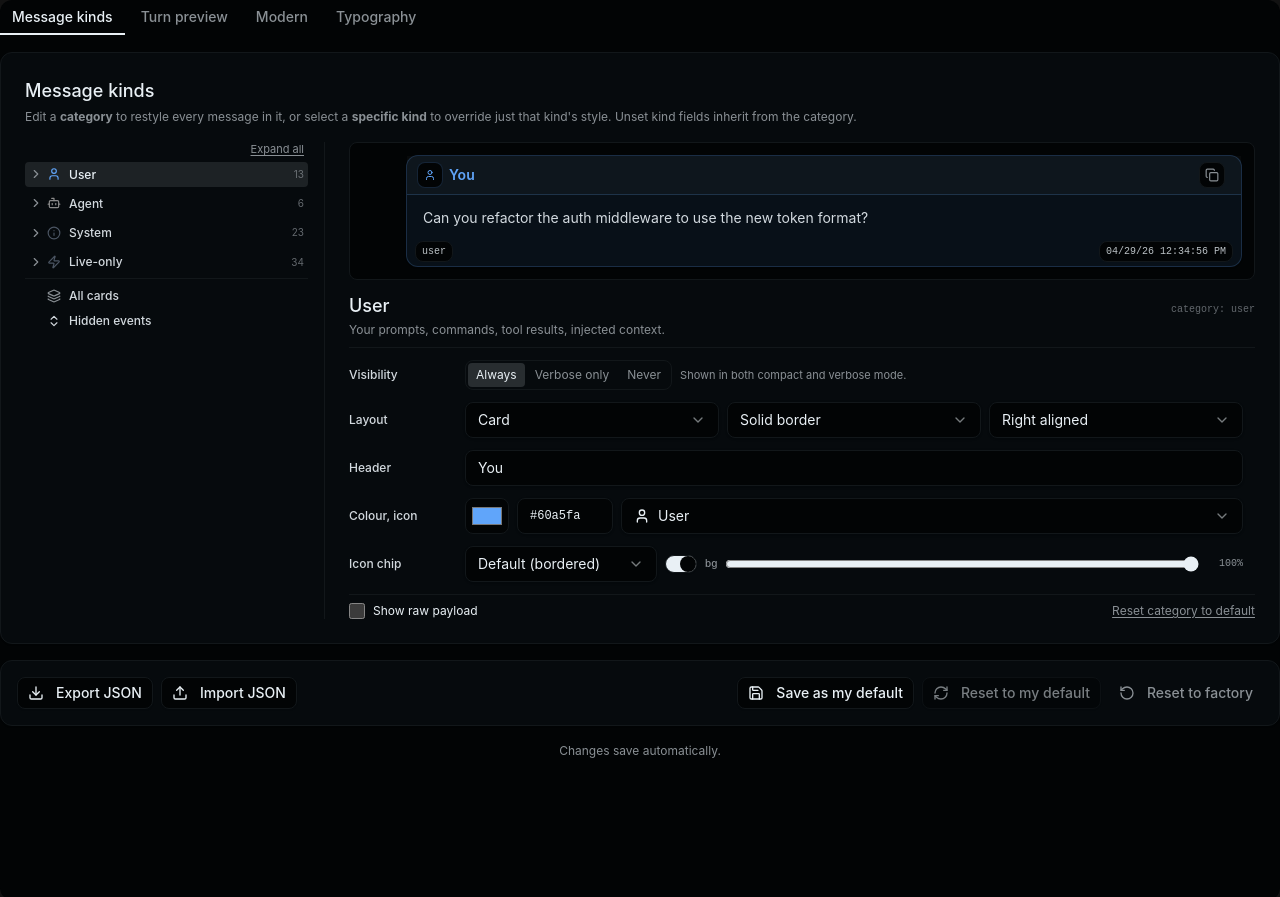
Test case: AppearanceSettings — category + kind tree › lists the three categories
Expected: the 1st text "User" is shown, [69,167,96,182]
Expected: the text "Agent" is shown, [69,196,103,211]
Click the button "Expand all".
click(277, 150)  # box [250,142,304,158]
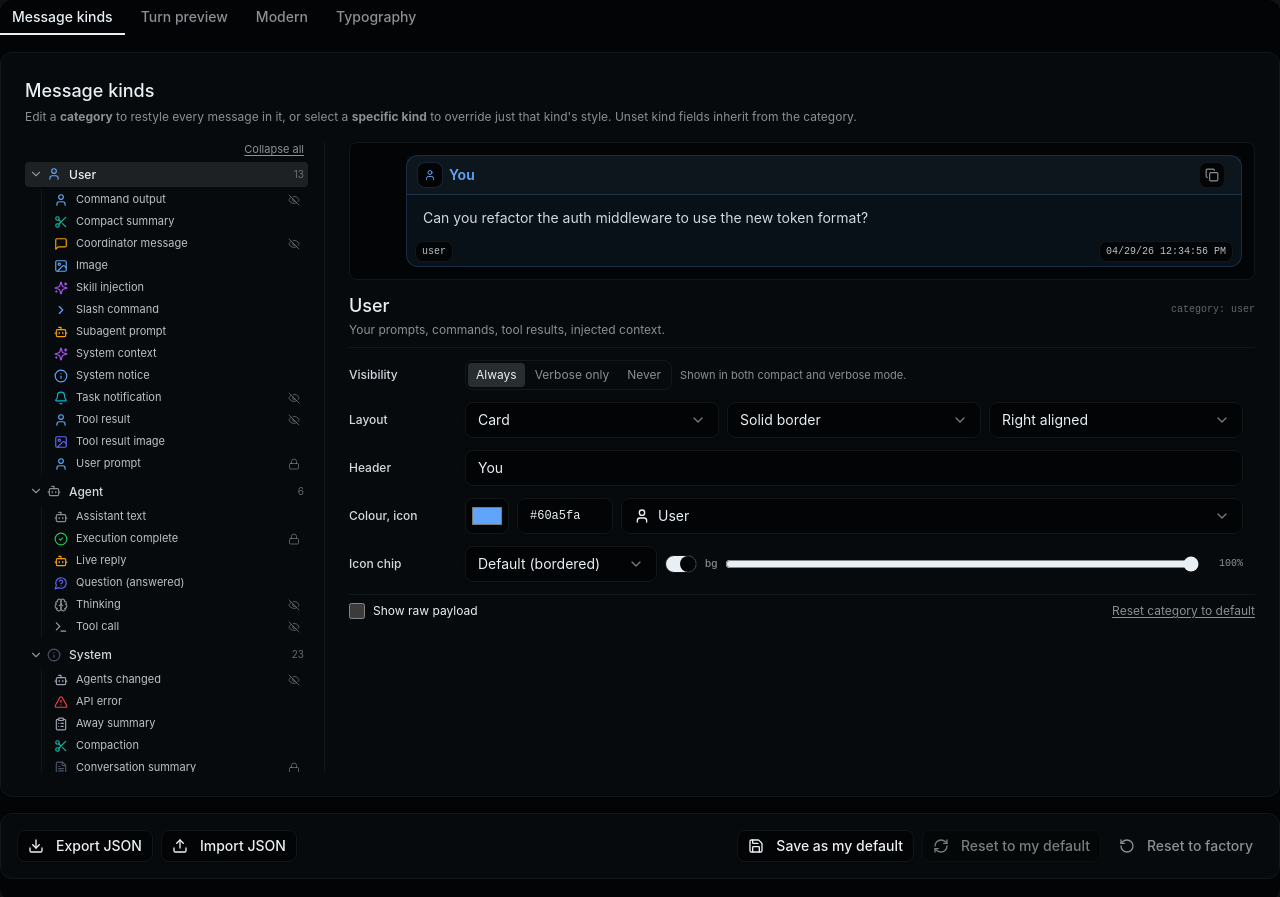
Now the text "Tool call" is shown, box [76,619,119,633]
